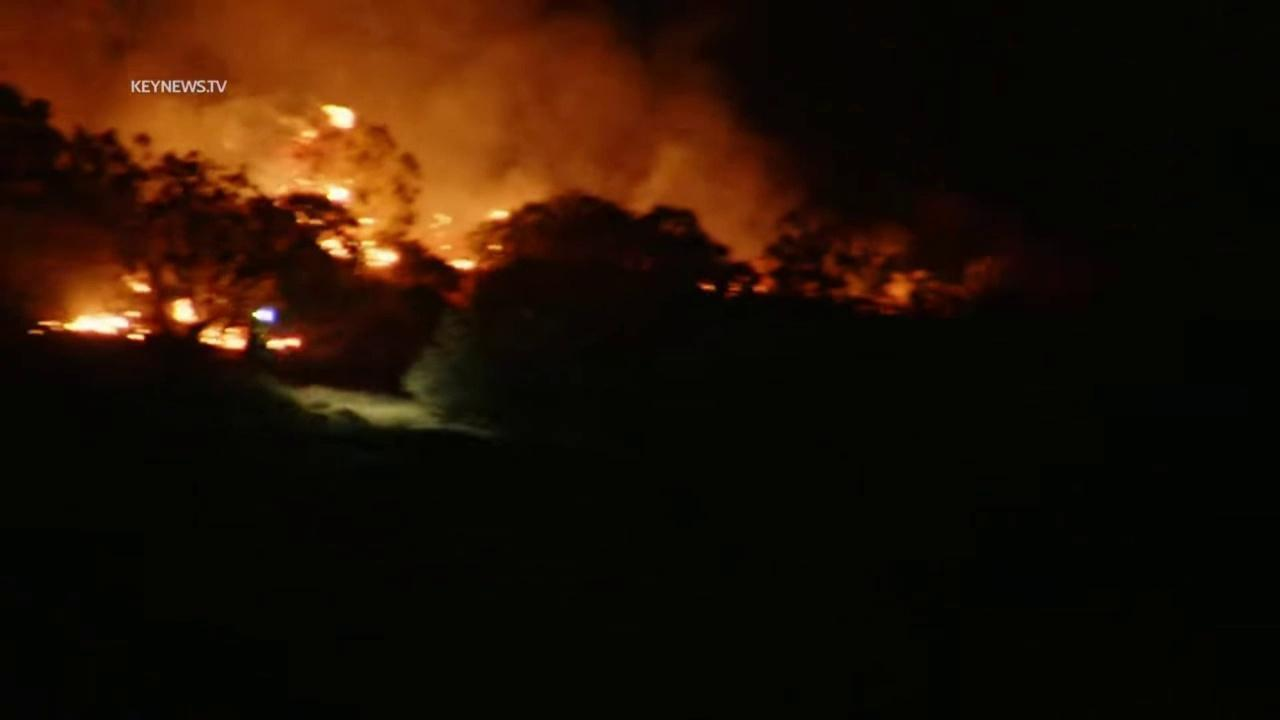fire: (20, 305, 154, 342), (196, 320, 252, 353), (356, 237, 401, 268), (319, 101, 357, 130), (316, 230, 352, 259), (167, 295, 202, 324), (122, 268, 153, 295), (265, 335, 305, 354), (439, 255, 478, 272), (324, 184, 351, 203), (488, 208, 511, 222), (485, 243, 505, 253), (357, 216, 375, 226)
smoke: (0, 0, 932, 322)
